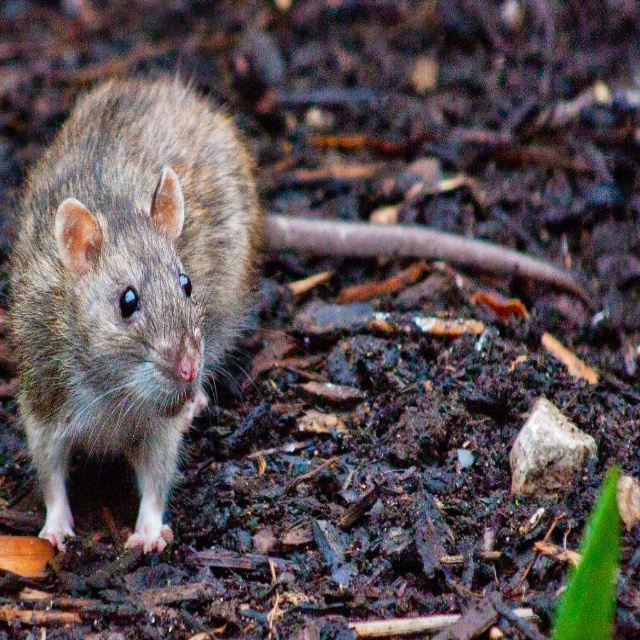Mouse: (0, 58, 306, 555)
